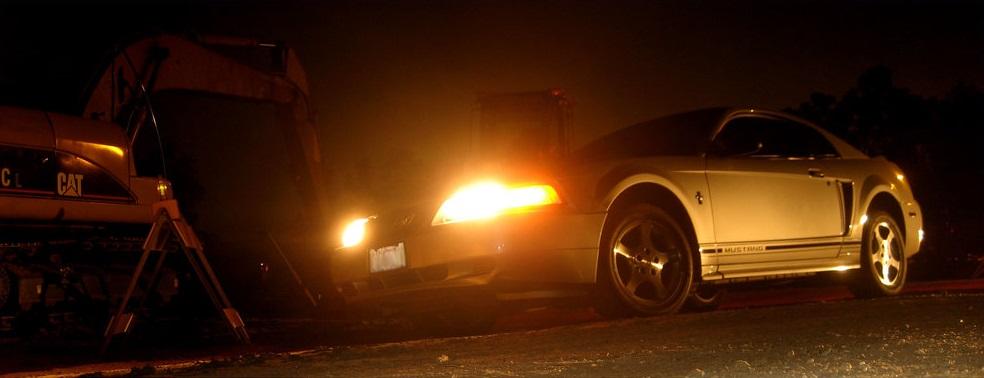car: (322, 95, 936, 348)
